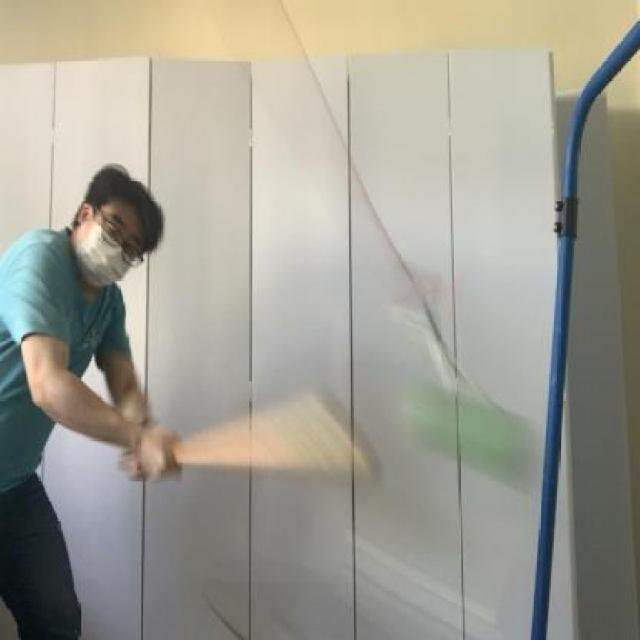baseball: (402, 379, 552, 492)
